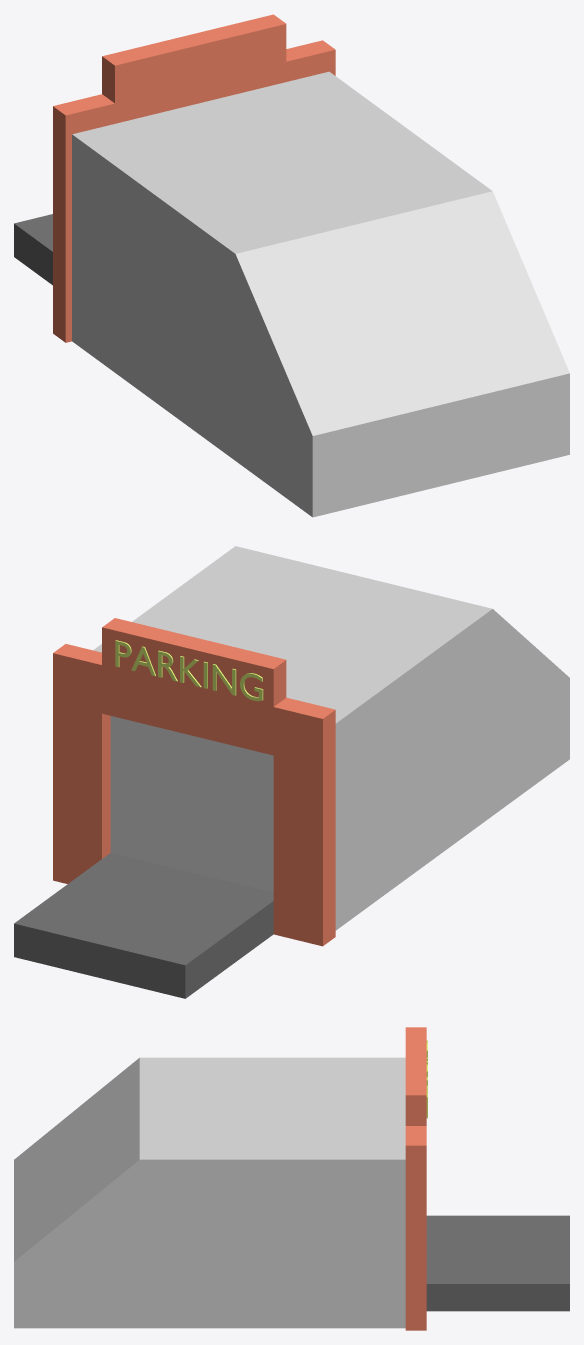
File: CarSpawnParkingGarage.fbx
3 renders of one model, top to bottom at view 1: azimuth 30°, elevation 25°; view 2: azimuth 150°, elevation 25°; view 3: azimuth 270°, elevation 25°, orthographic. The views are drawn at different scales.
Visible parts, largest first — view 1: Cube; view 2: Cube, Plane; view 3: Cube.
Boxes of the visible parts, left/top/right/bottom form: Cube: left=14, top=14, right=569, bottom=517; Cube: left=14, top=546, right=569, bottom=998; Plane: left=110, top=716, right=273, bottom=892; Cube: left=14, top=1027, right=569, bottom=1330.
Size of the model in its own units: 5.65 by 5.31 by 12.39.
